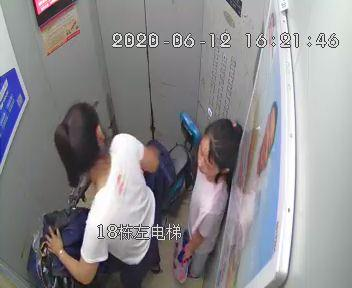Electric-bicycle: (33, 109, 197, 287)
